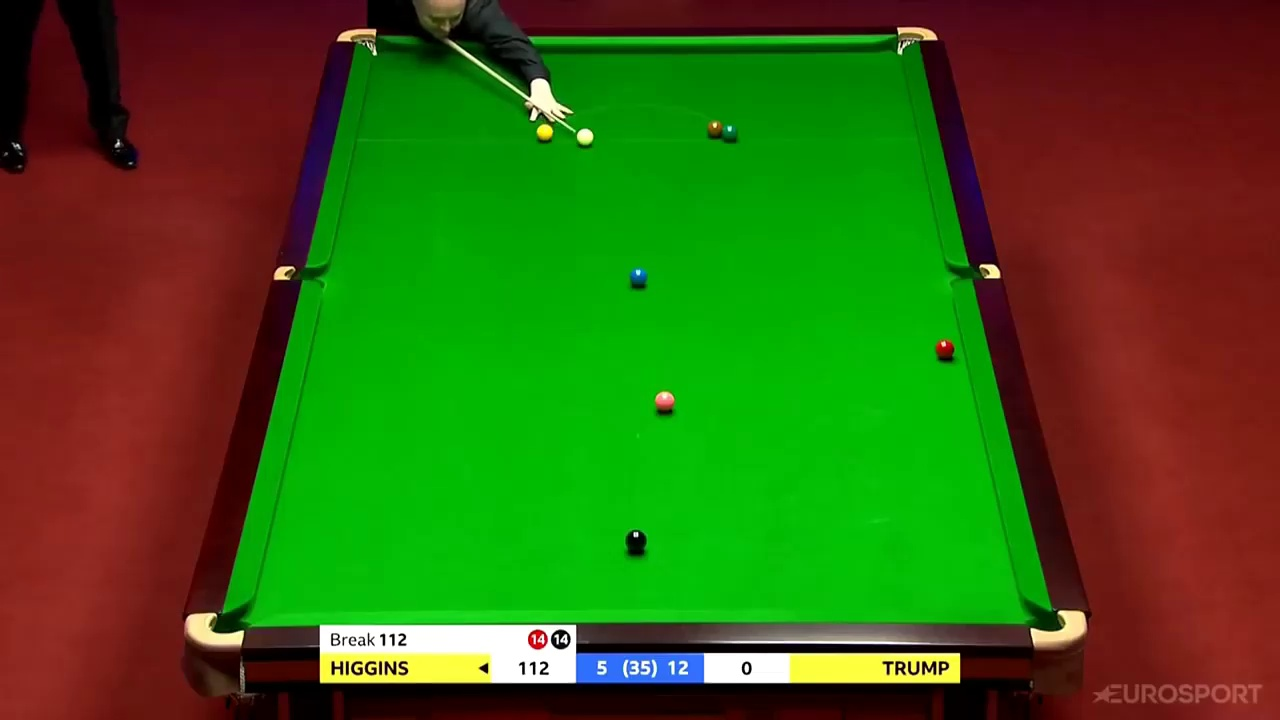ball: (533, 122, 558, 147), (625, 526, 647, 552), (933, 336, 955, 360), (654, 390, 676, 413), (628, 266, 650, 285), (576, 127, 593, 148), (707, 121, 721, 136)
